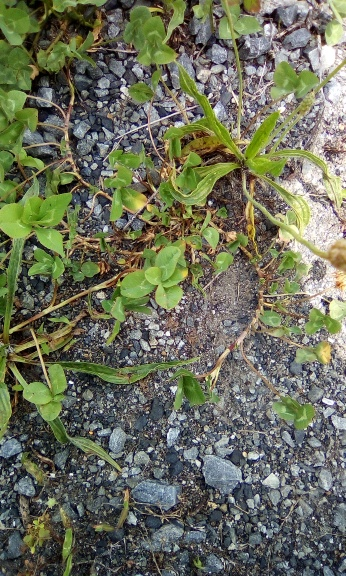4leaf: (1, 191, 73, 257), (119, 246, 186, 311)
